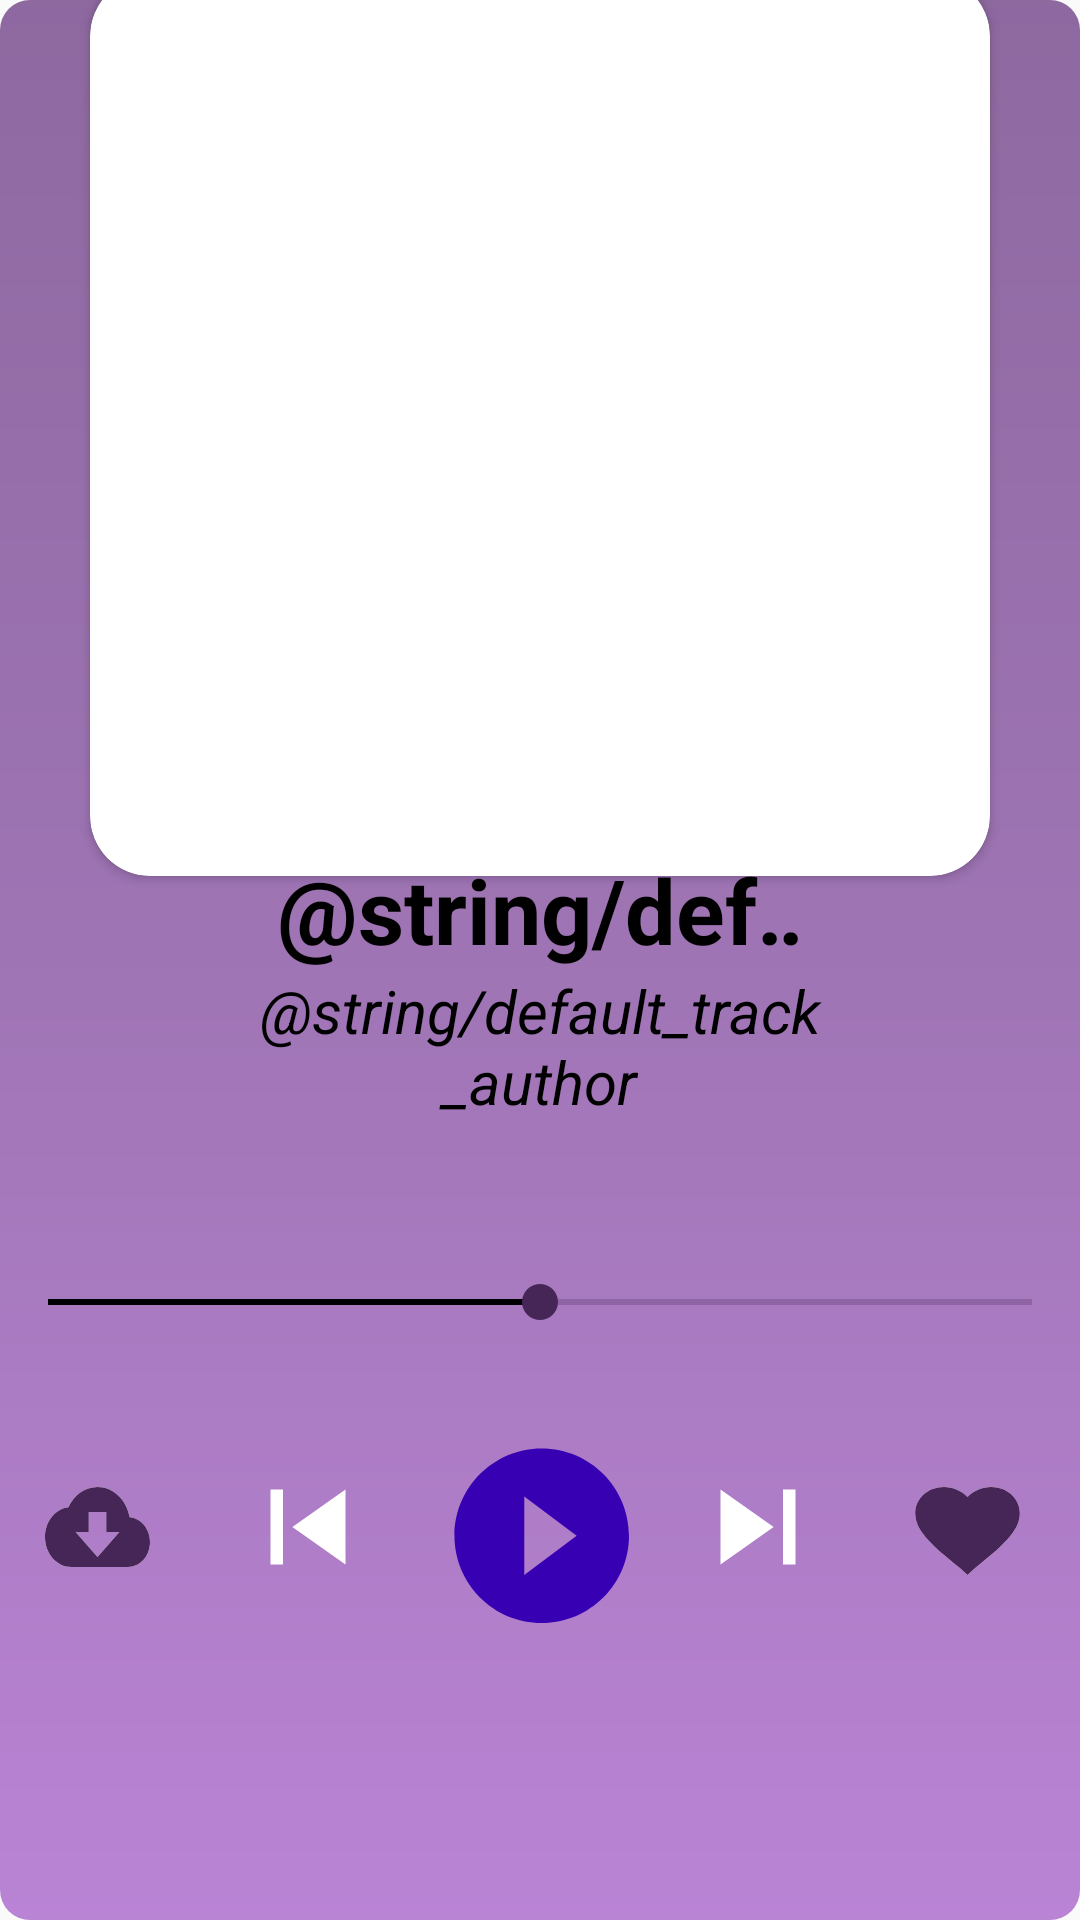

Screen size 1080px x 1920px. Icon name, then its center in pixels as (x=x, y=y):
play circle: (x=541, y=1535)
skip next: (x=758, y=1527)
skip previous: (x=308, y=1527)
